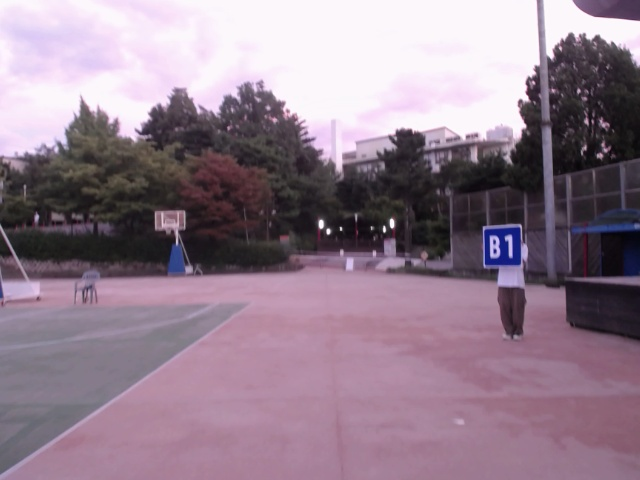delivery_b1: (482, 226, 521, 266)
